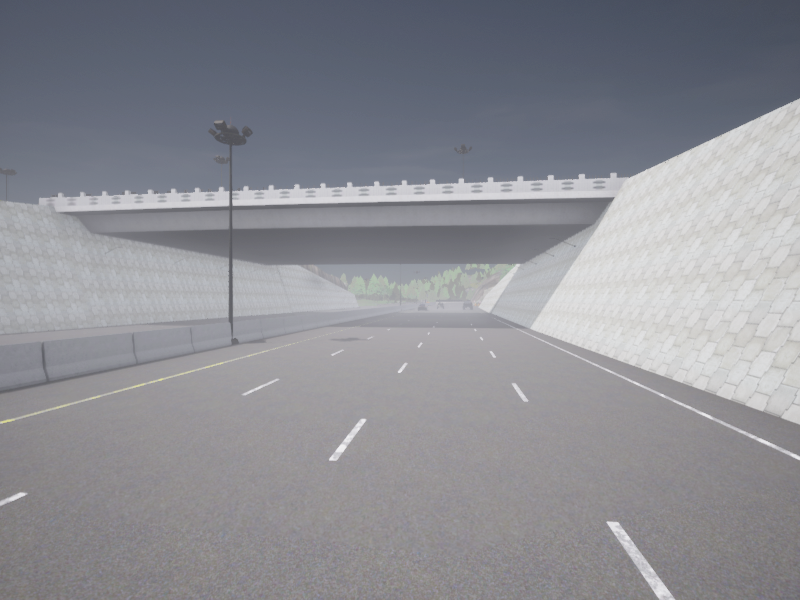vehicle: (462, 301, 472, 309), (418, 304, 427, 310), (437, 303, 443, 308)
